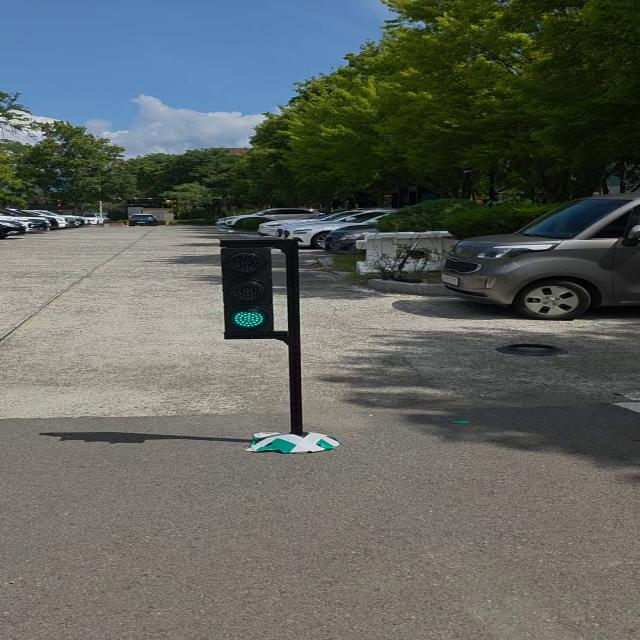green: (222, 241, 274, 335)
